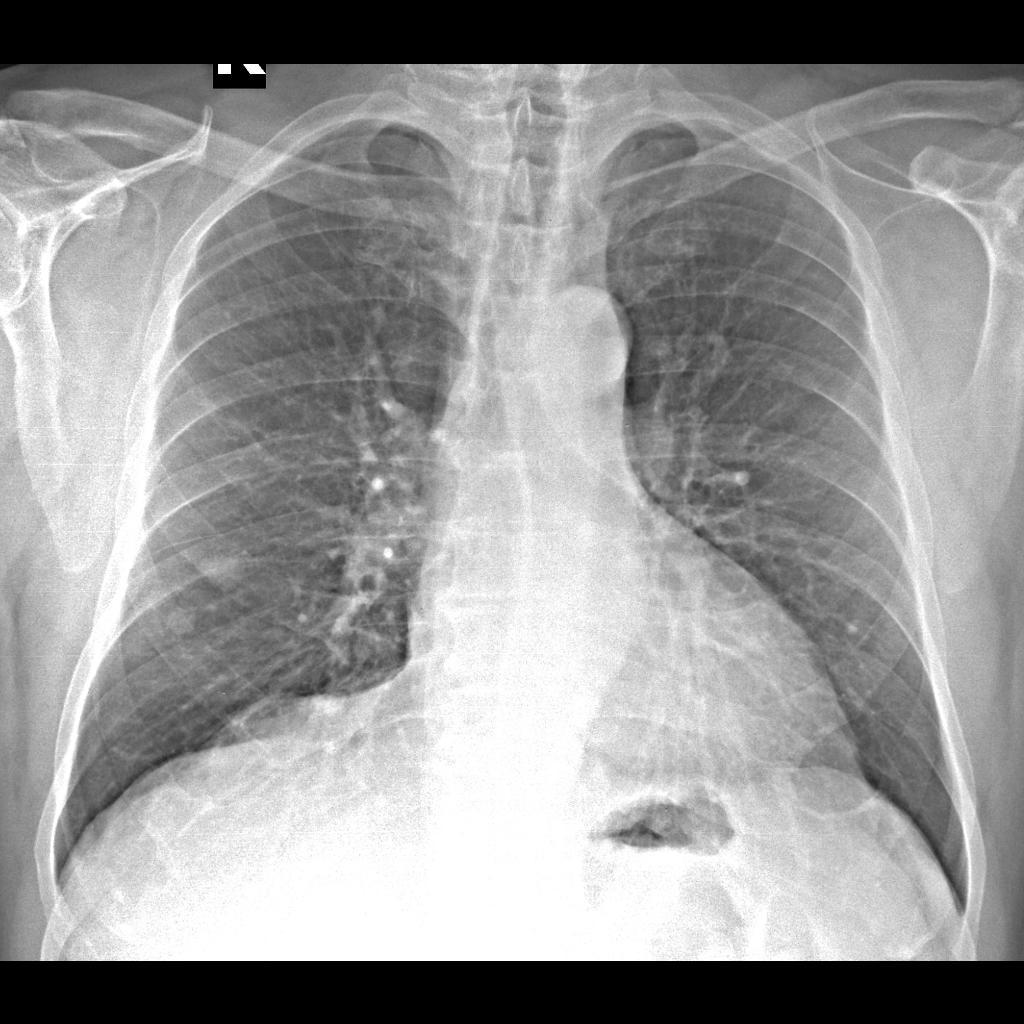Nodule: (185, 539, 260, 594), (158, 597, 195, 648)
